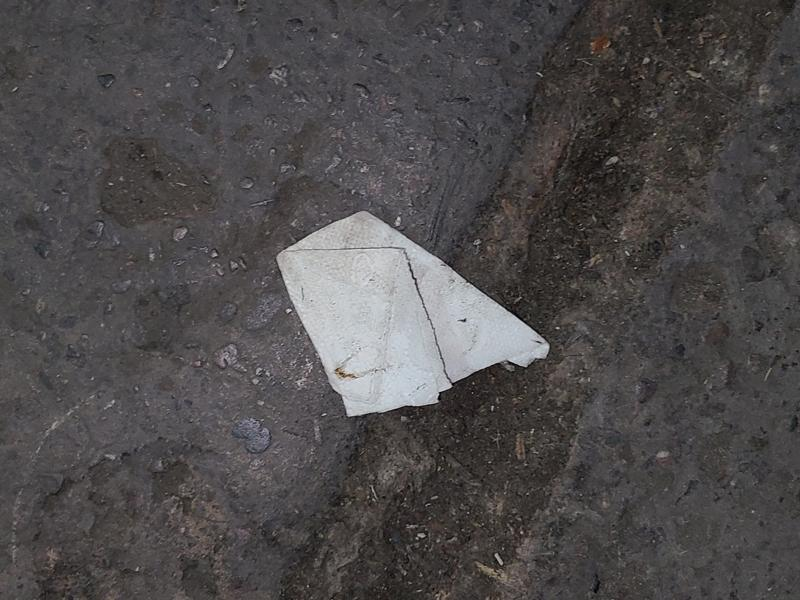papel: (275, 212, 549, 420)
